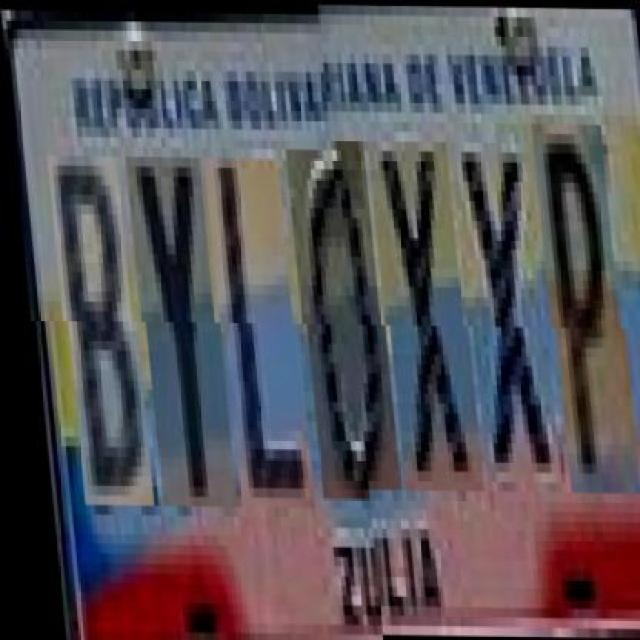b: (48, 157, 144, 506)
l: (206, 157, 306, 508)
o: (287, 148, 391, 500)
p: (534, 132, 632, 502)
x: (370, 149, 475, 500), (452, 140, 552, 492)
y: (127, 156, 227, 507)
